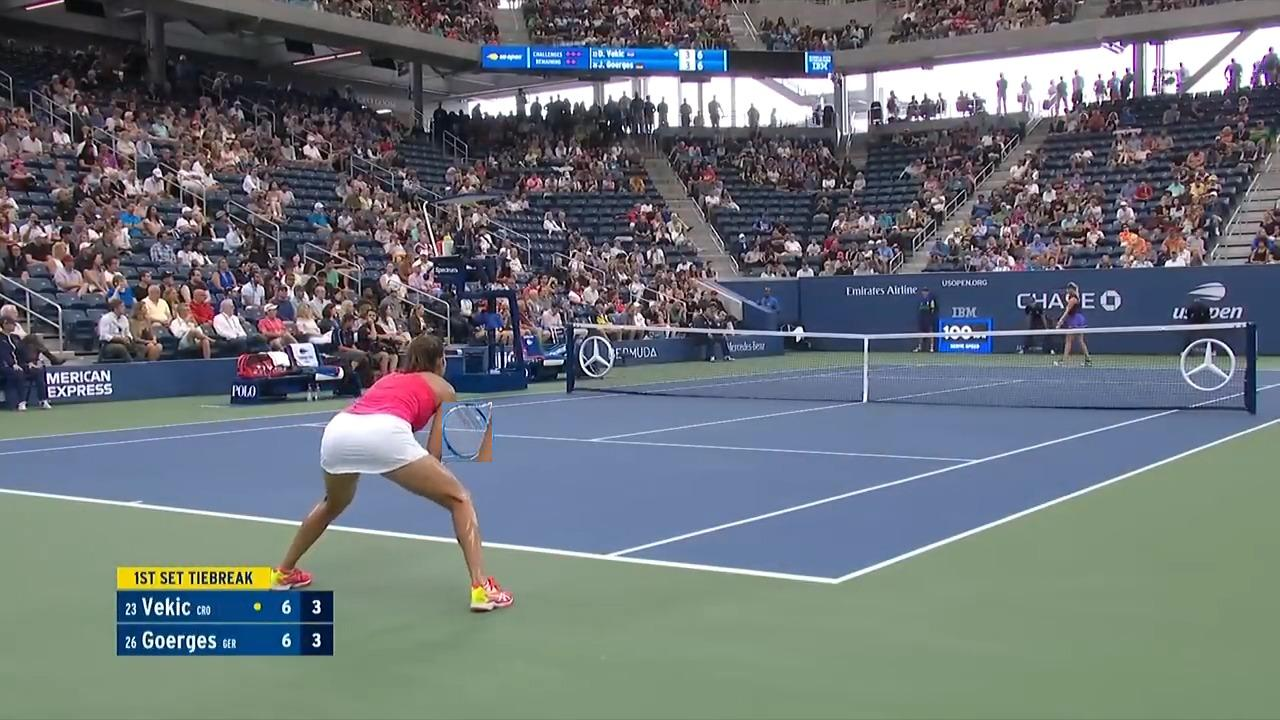tennis racket: (442, 402, 492, 462)
